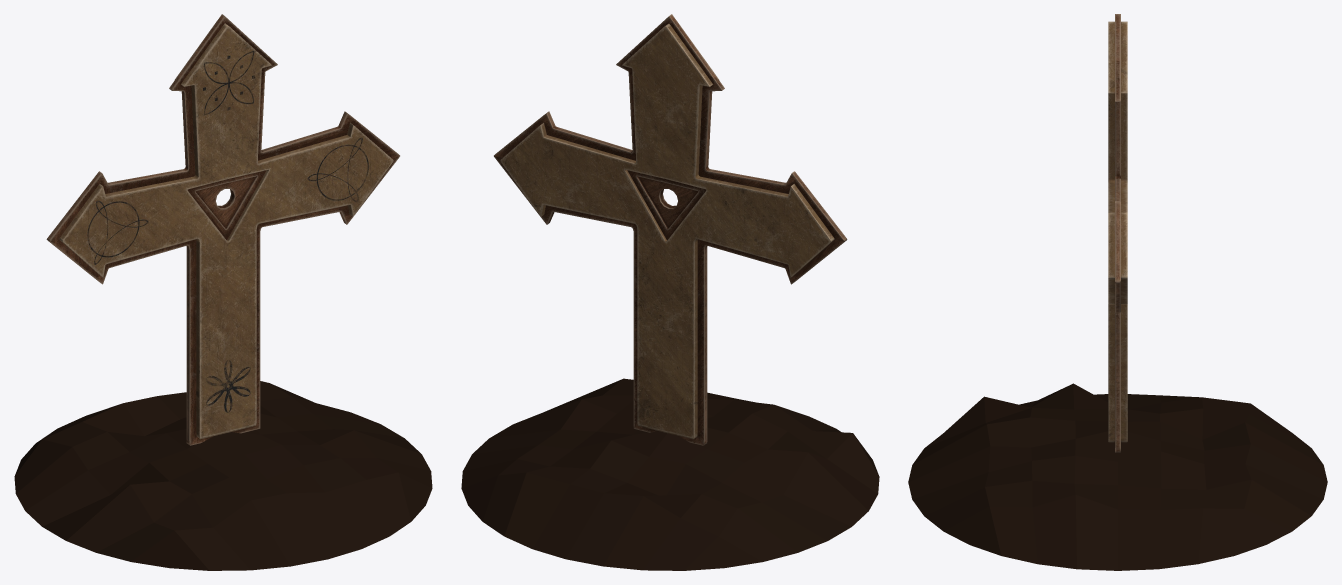
File: cross_wood_a.glb
3 renders of one model, left to right at view 1: azimuth 30°, elevation 25°; view 2: azimuth 150°, elevation 25°; view 3: azimuth 270°, elevation 25°, orthographic.
Parts seen in each view (by area): view 1: Plane_1, cross low_0; view 2: Plane_1, cross low_0; view 3: Plane_1, cross low_0.
Part boxes in pixels (x1,y1,x2,y2): Plane_1: (14, 381, 432, 570); cross low_0: (46, 14, 399, 445); Plane_1: (461, 378, 879, 570); cross low_0: (494, 14, 847, 445); Plane_1: (908, 383, 1327, 570); cross low_0: (1108, 14, 1127, 452).
Bounding box in the file's own units: 3.23 × 3.98 × 3.23.
2 materials, 1 textured.
